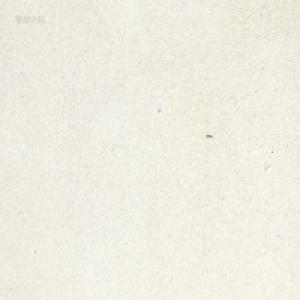Nail: (206, 133, 212, 138)
